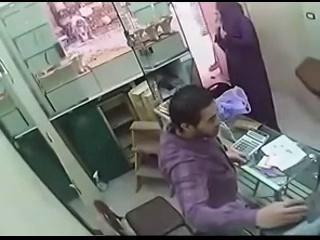Normal: (157, 85, 309, 233), (94, 196, 194, 236), (230, 128, 270, 160)
